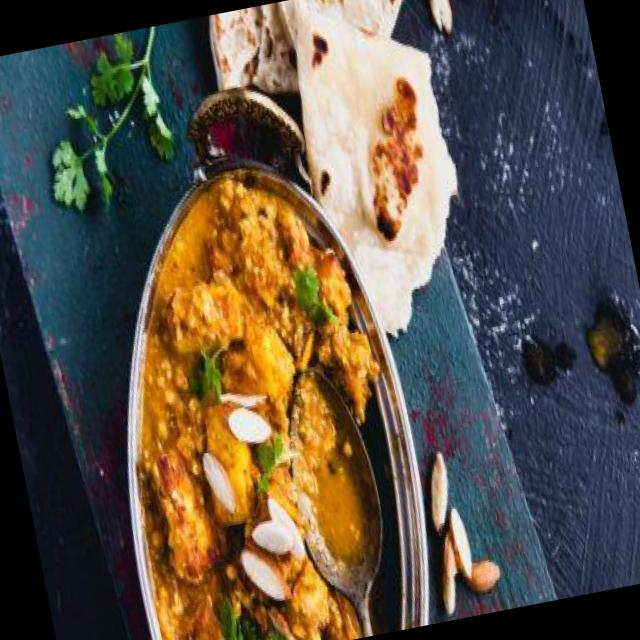roti: (294, 8, 452, 250)
